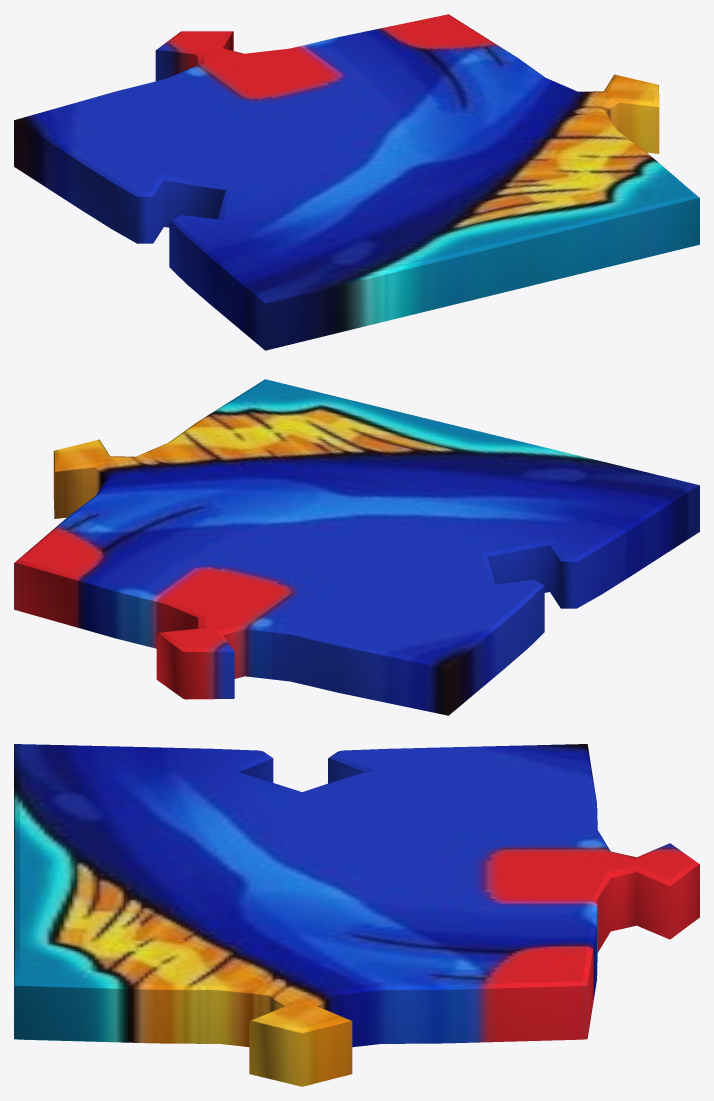
3 renders of one model, top to bottom at view 1: azimuth 30°, elevation 25°; view 2: azimuth 150°, elevation 25°; view 3: azimuth 270°, elevation 25°, orthographic. The views are drawn at different scales.
Visible parts, largest first — view 1: jigsawPuzzle4x3_Grp_piece_2x3_Grp_Geo; view 2: jigsawPuzzle4x3_Grp_piece_2x3_Grp_Geo; view 3: jigsawPuzzle4x3_Grp_piece_2x3_Grp_Geo.
Boxes of the visible parts, left/top/right/bottom form: jigsawPuzzle4x3_Grp_piece_2x3_Grp_Geo: left=14, top=14, right=699, bottom=350; jigsawPuzzle4x3_Grp_piece_2x3_Grp_Geo: left=14, top=379, right=699, bottom=715; jigsawPuzzle4x3_Grp_piece_2x3_Grp_Geo: left=14, top=744, right=699, bottom=1086.
Size of the model in its own units: 1.17 by 0.11 by 1.17.
1 material, 1 textured.
